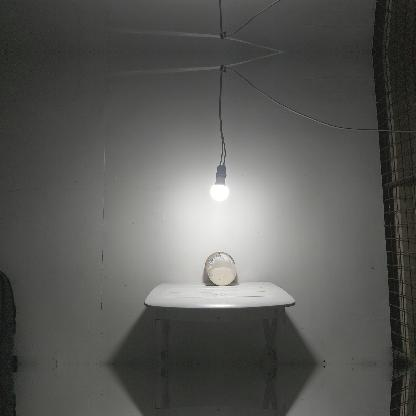Lady-s-Choice: (203, 250, 237, 286)
